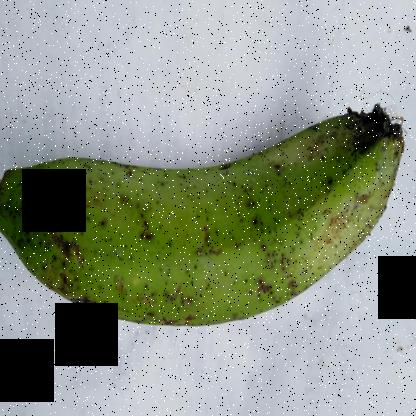unripe: (1, 91, 405, 352)
